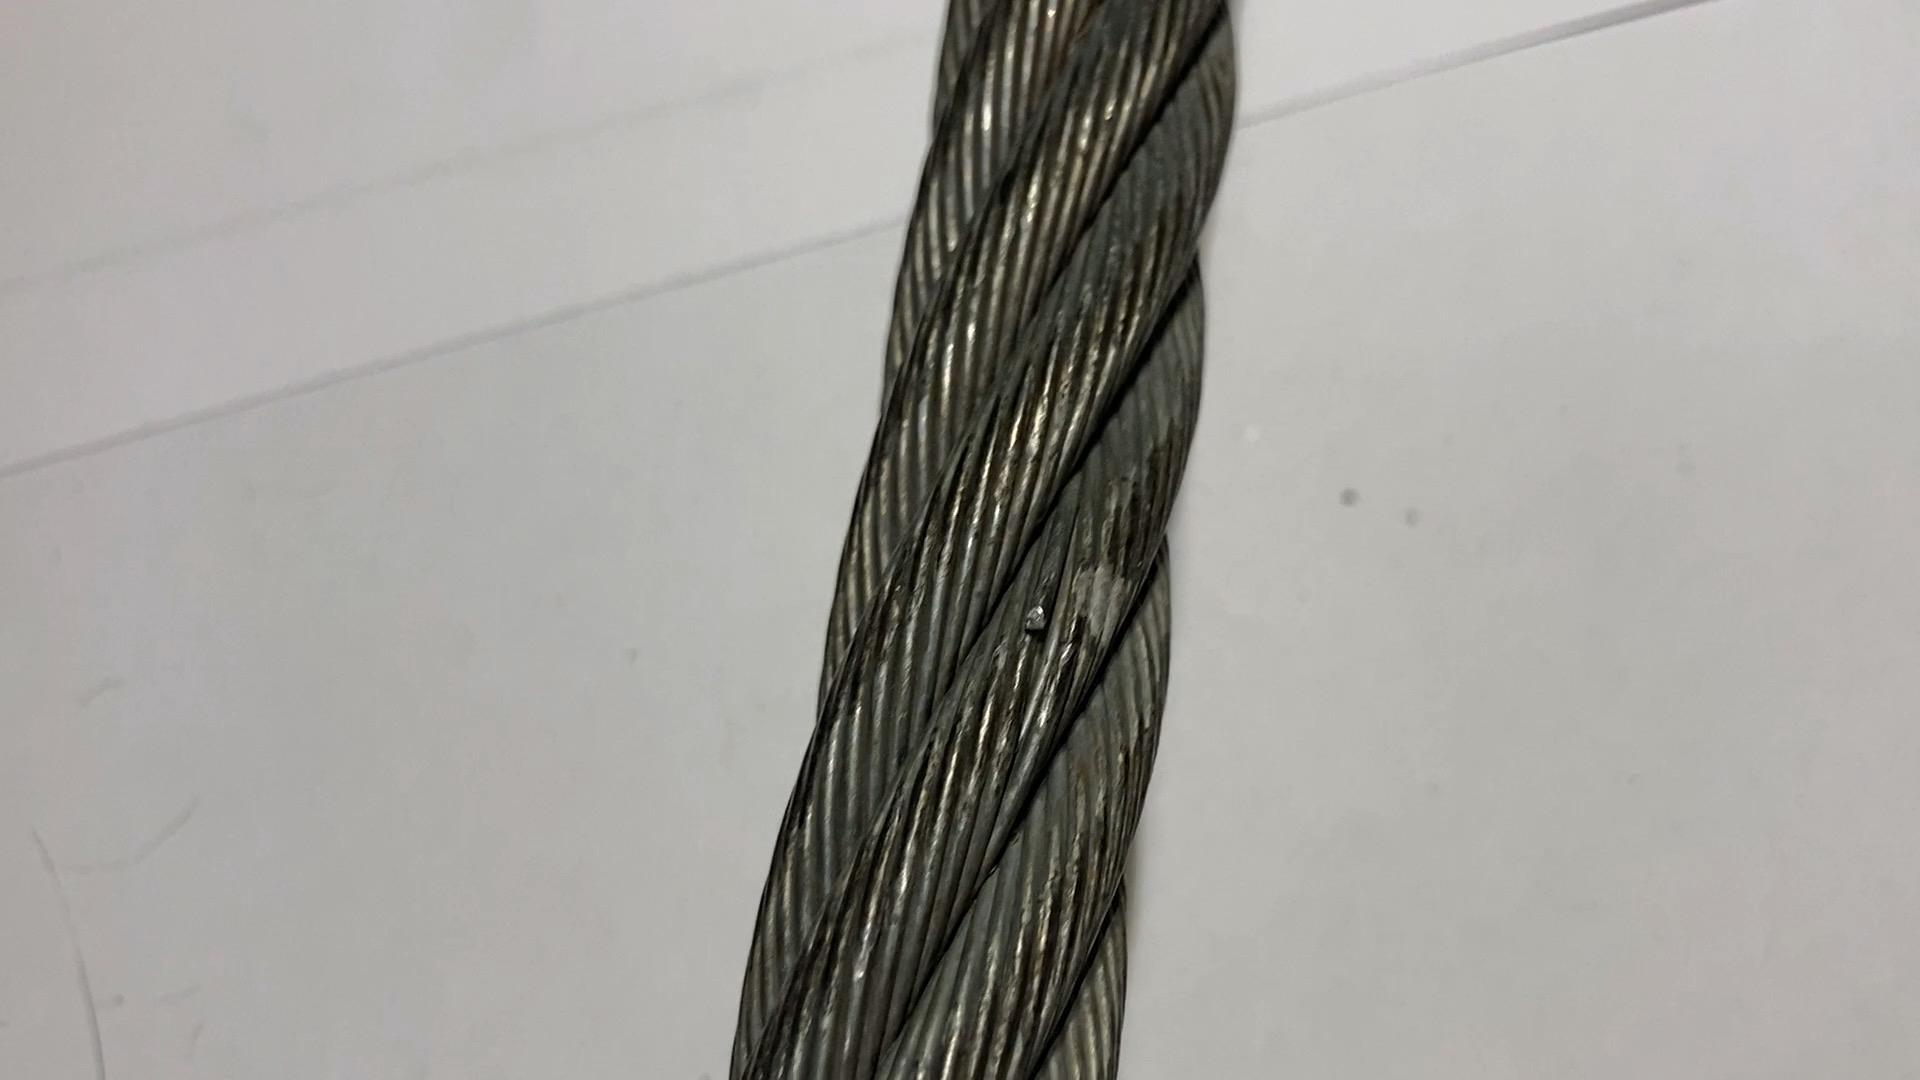break: (1001, 556, 1106, 691)
